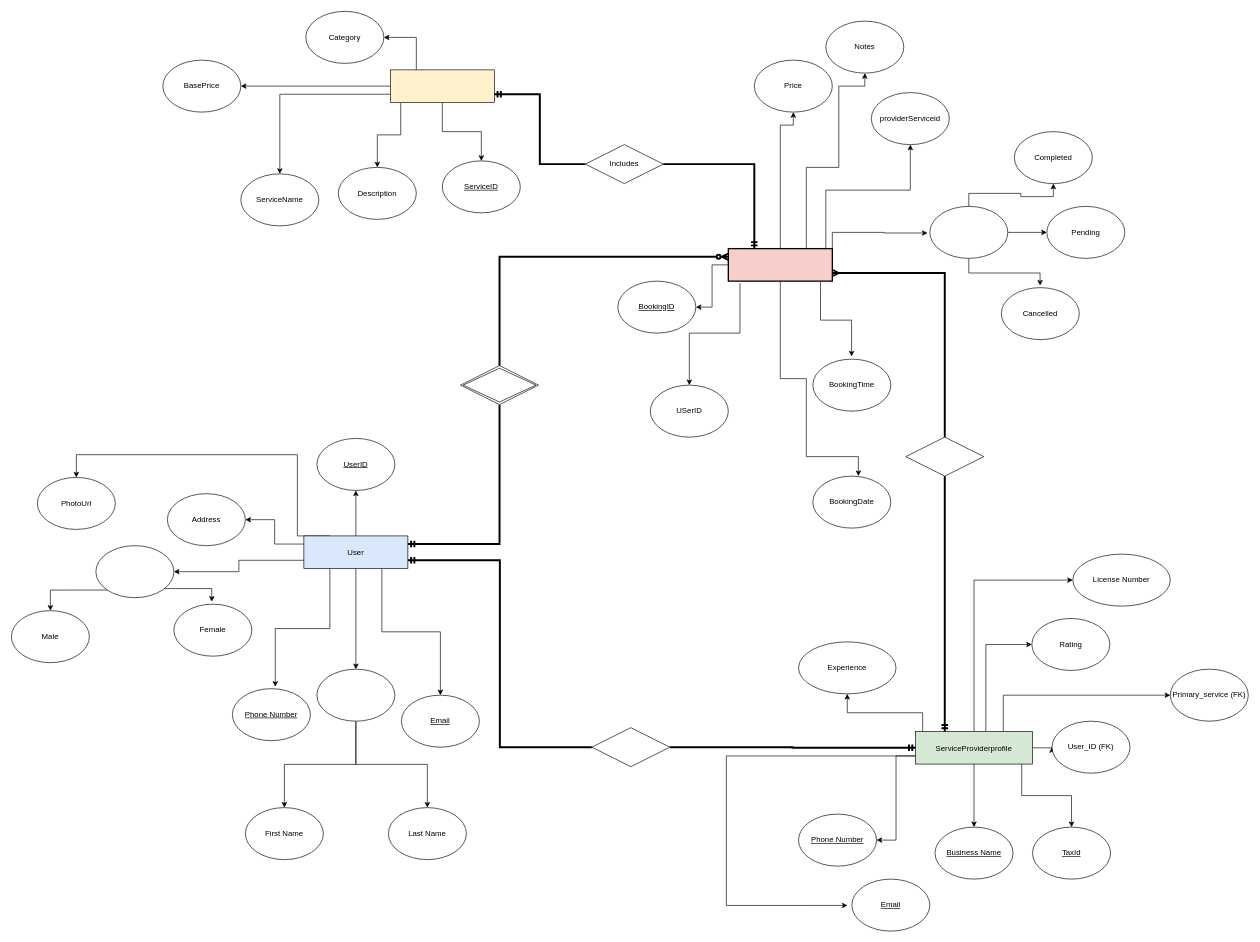
This 1260x942 diagram has some shape labels left out. The box of each missing label's shape, as (x1, y1, x2, y2) in pixels:
(Gender): (95, 545, 174, 598)
(Name): (316, 669, 395, 721)
(Status): (929, 206, 1008, 258)
Assigned to: (905, 436, 984, 476)
Booking: (727, 248, 833, 281)
Contacts: (591, 727, 670, 767)
ProviderService: (390, 69, 494, 102)
Requests: (460, 365, 539, 405)
